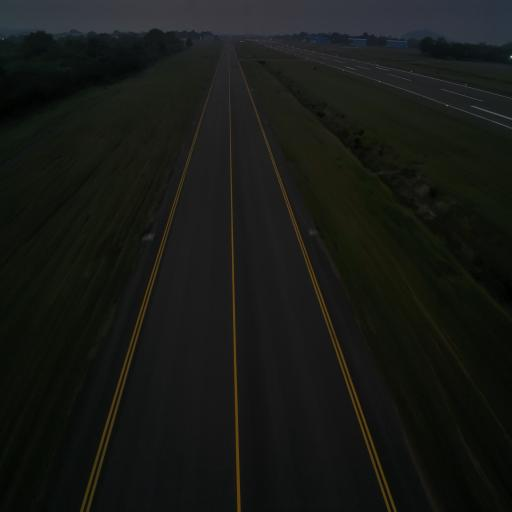on: (149, 230, 152, 238), (310, 226, 313, 232)
